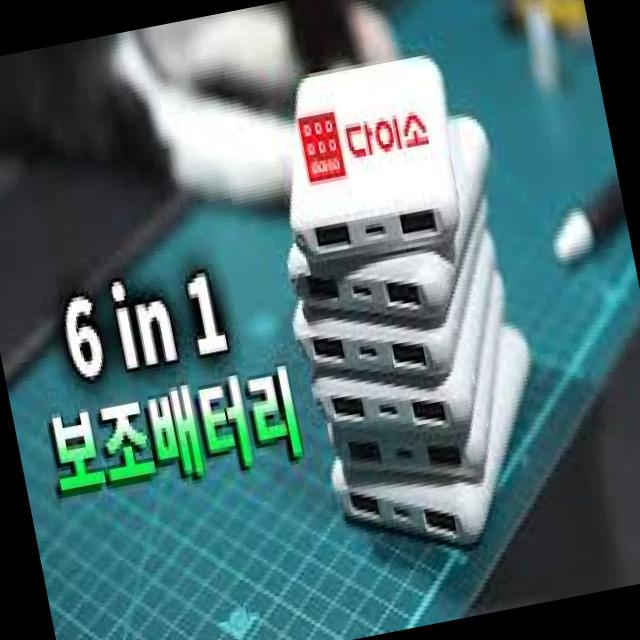power_bank: (312, 310, 568, 580), (265, 106, 520, 346), (318, 280, 534, 500), (264, 47, 472, 275), (304, 274, 536, 466), (283, 225, 524, 404)
